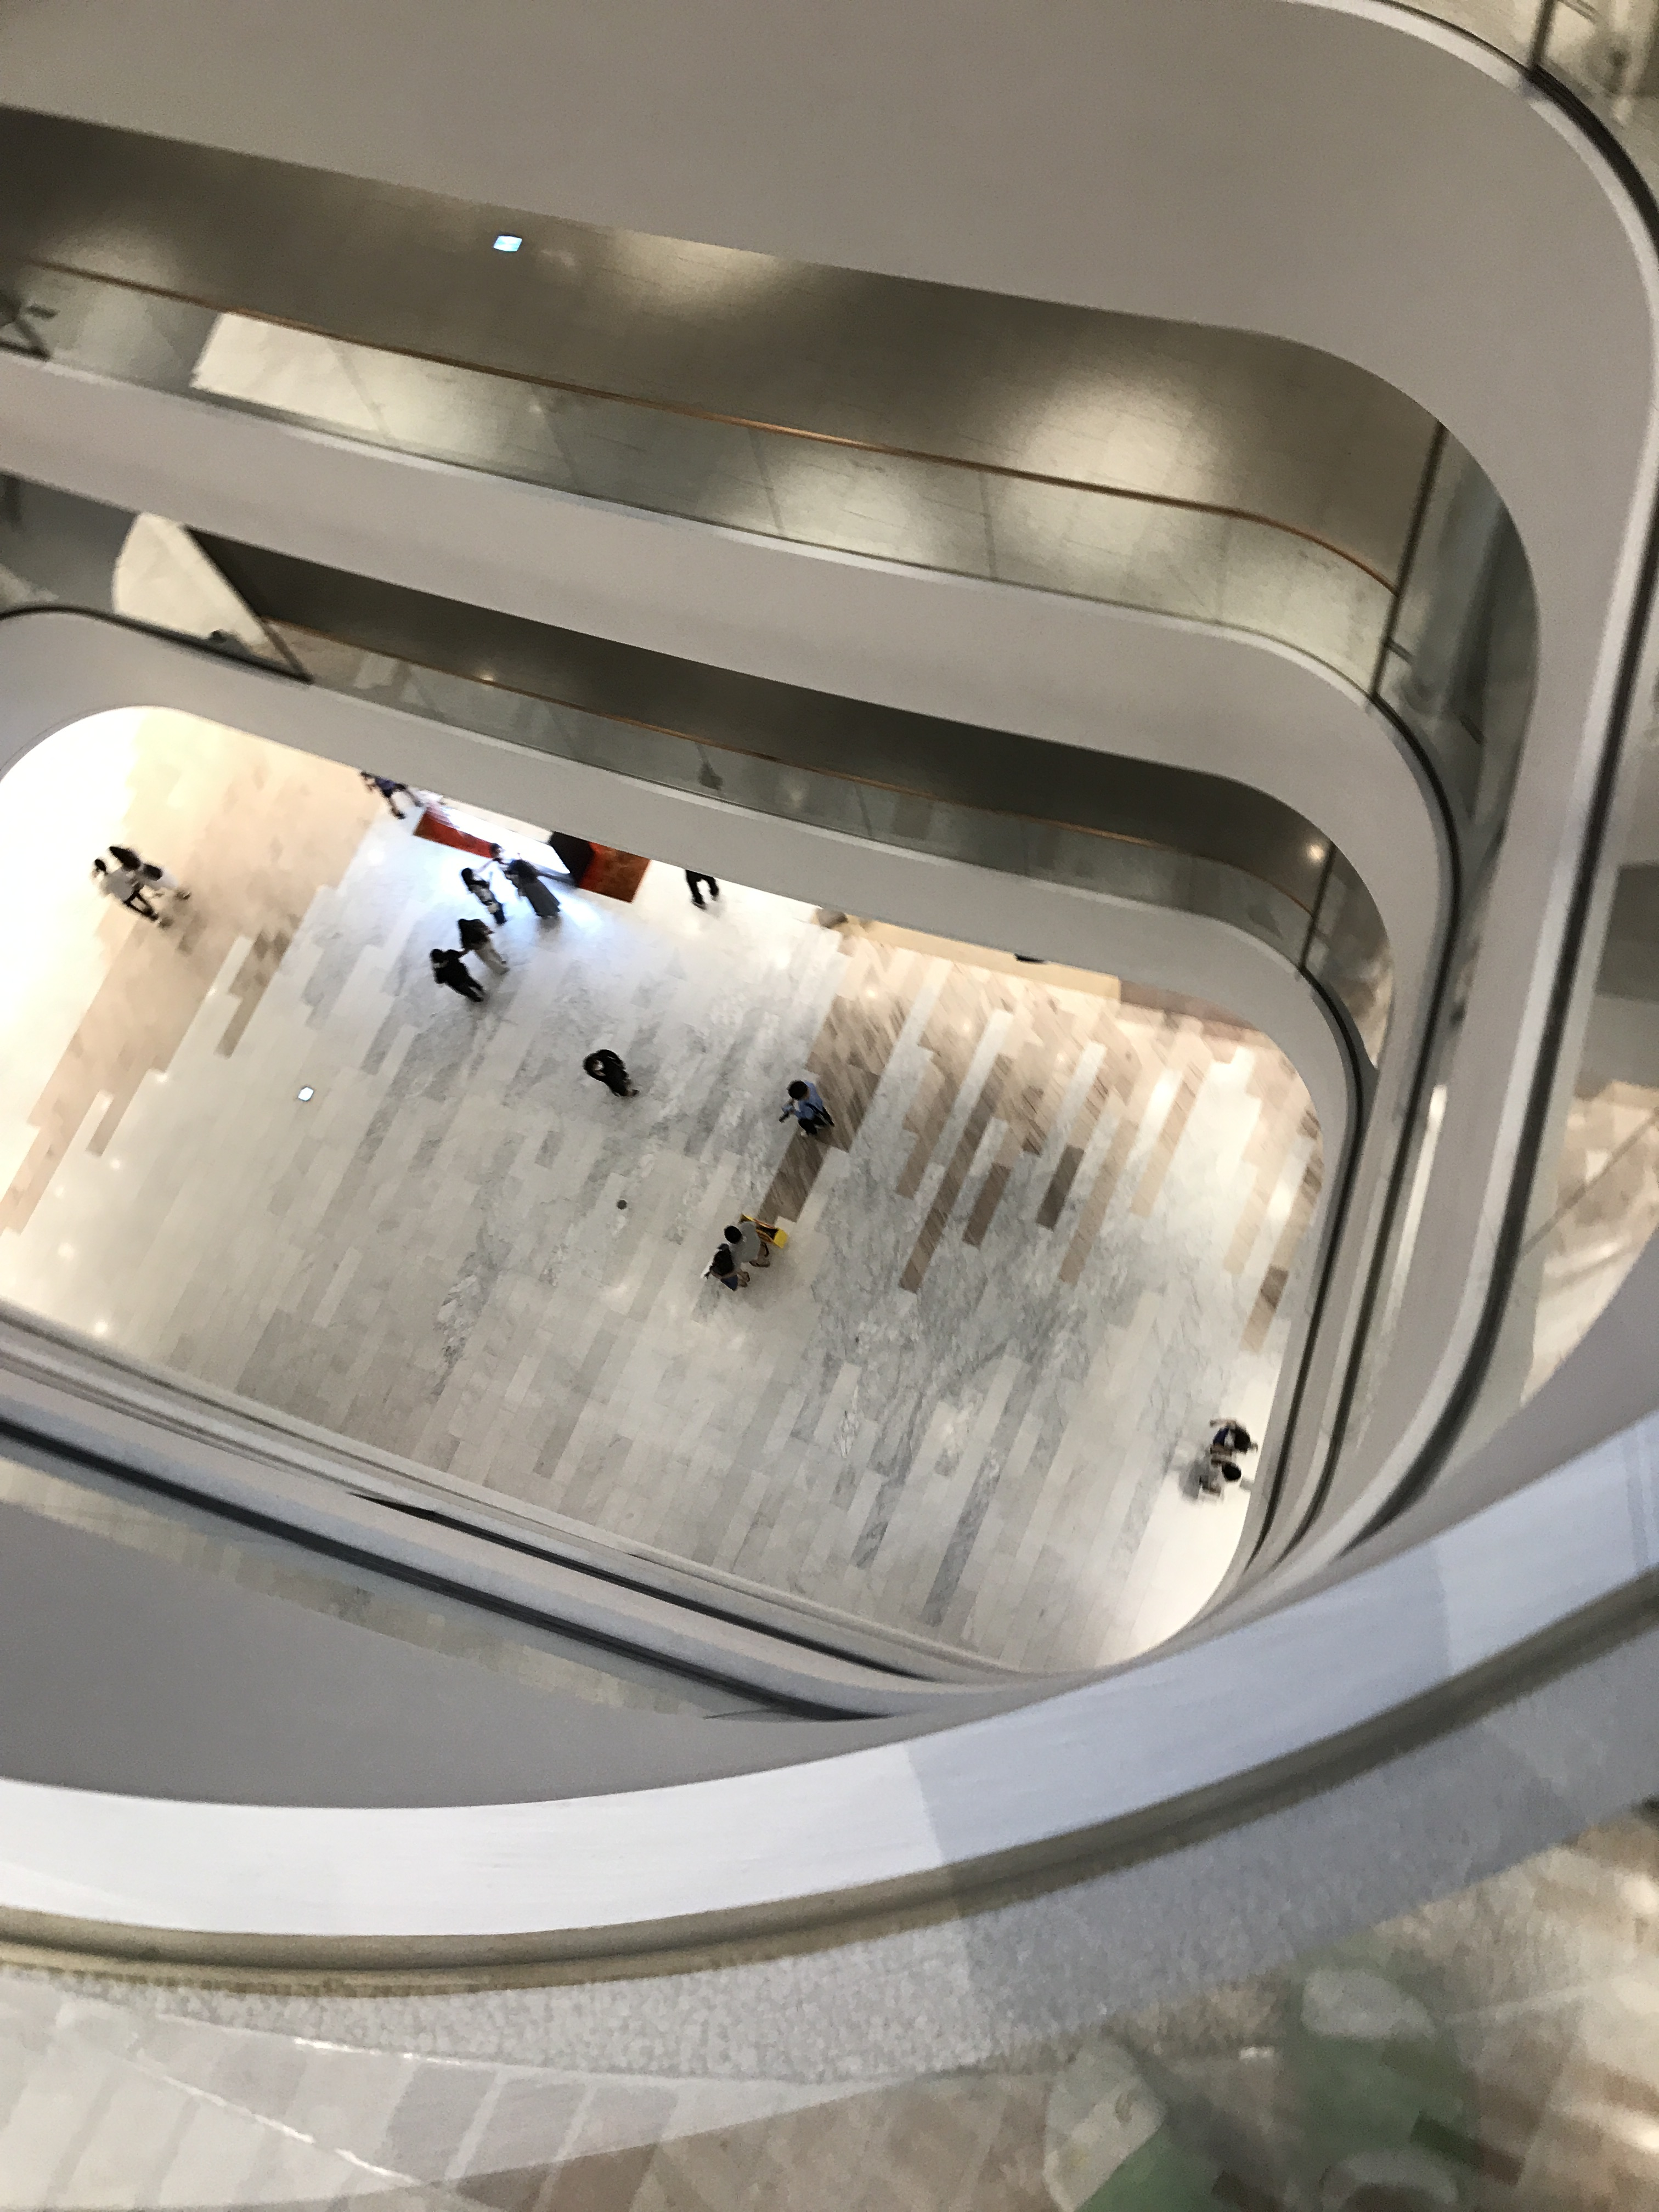person: (91, 860, 167, 929), (105, 846, 190, 902), (452, 916, 512, 978), (427, 945, 484, 1003), (781, 1079, 834, 1143), (513, 860, 563, 922), (360, 771, 425, 819), (582, 1048, 640, 1099), (461, 867, 509, 927), (476, 842, 527, 897), (725, 1220, 775, 1270), (699, 1244, 749, 1290), (1195, 1451, 1242, 1503), (1208, 1415, 1258, 1460), (685, 867, 720, 911)
